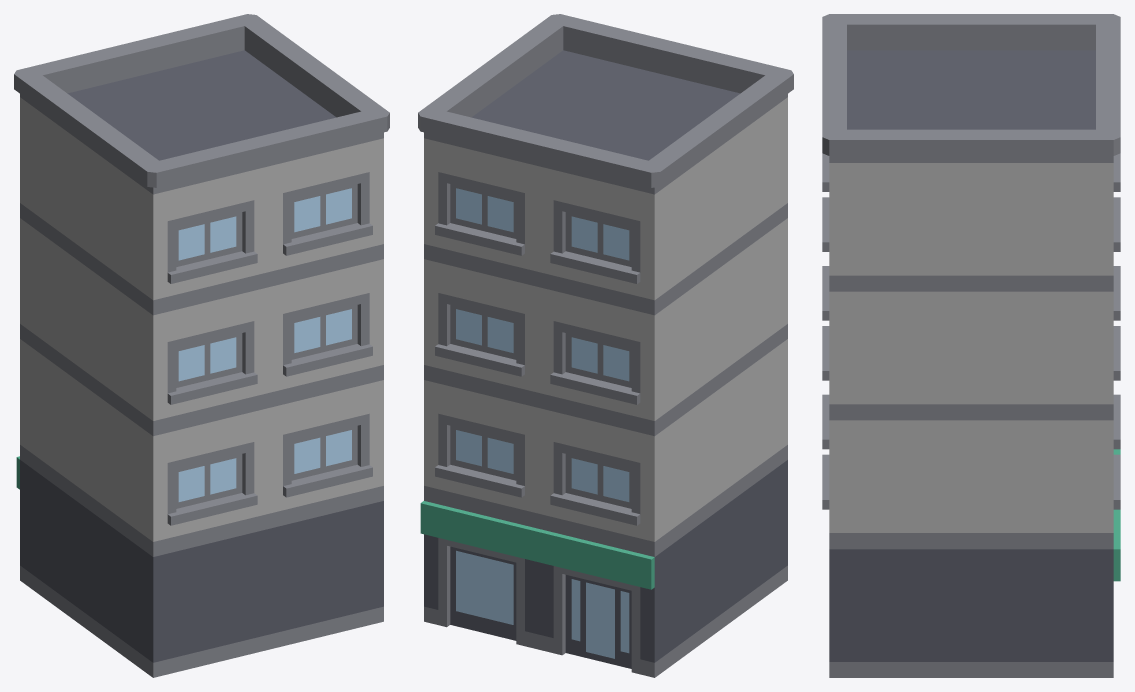
Rendered from large_buildingB.002.obj.
3 views of the same model, side by side, from view 1: azimuth 30°, elevation 25°; view 2: azimuth 150°, elevation 25°; view 3: azimuth 270°, elevation 25° (orthographic). The views are drawn at different scales.
Parts seen in each view (by area): view 1: large_buildingB; view 2: large_buildingB; view 3: large_buildingB.
Boxes of the visible parts, x1,y1,x2,y2 form: large_buildingB: (14, 14, 389, 677); large_buildingB: (418, 14, 793, 677); large_buildingB: (822, 14, 1120, 677).
Bounding box in the file's own units: 15.33 × 30.67 × 15.33.
